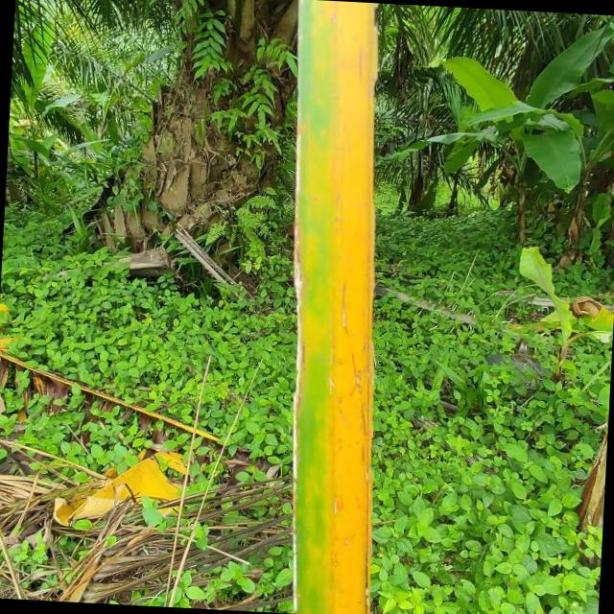Megnesium: (292, 0, 376, 614)
